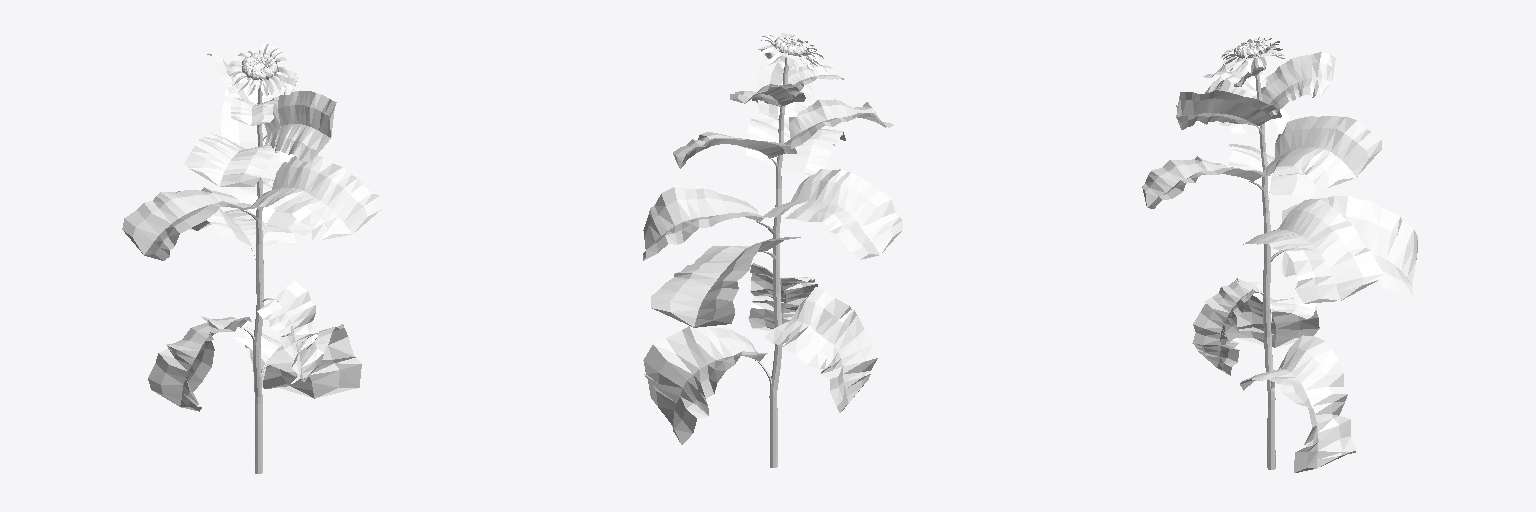
3 renders of one model, left to right at view 1: azimuth 30°, elevation 25°; view 2: azimuth 150°, elevation 25°; view 3: azimuth 270°, elevation 25°, orthographic.
Visible parts, largest first — view 1: VG14_2; view 2: VG14_2; view 3: VG14_2.
Boxes of the visible parts, box(x1,y1,x2,y2) form: VG14_2: box(122, 43, 381, 473); VG14_2: box(643, 33, 902, 467); VG14_2: box(1142, 37, 1417, 472).
Size of the model in its own units: 0.6365 by 1.14 by 0.6695.